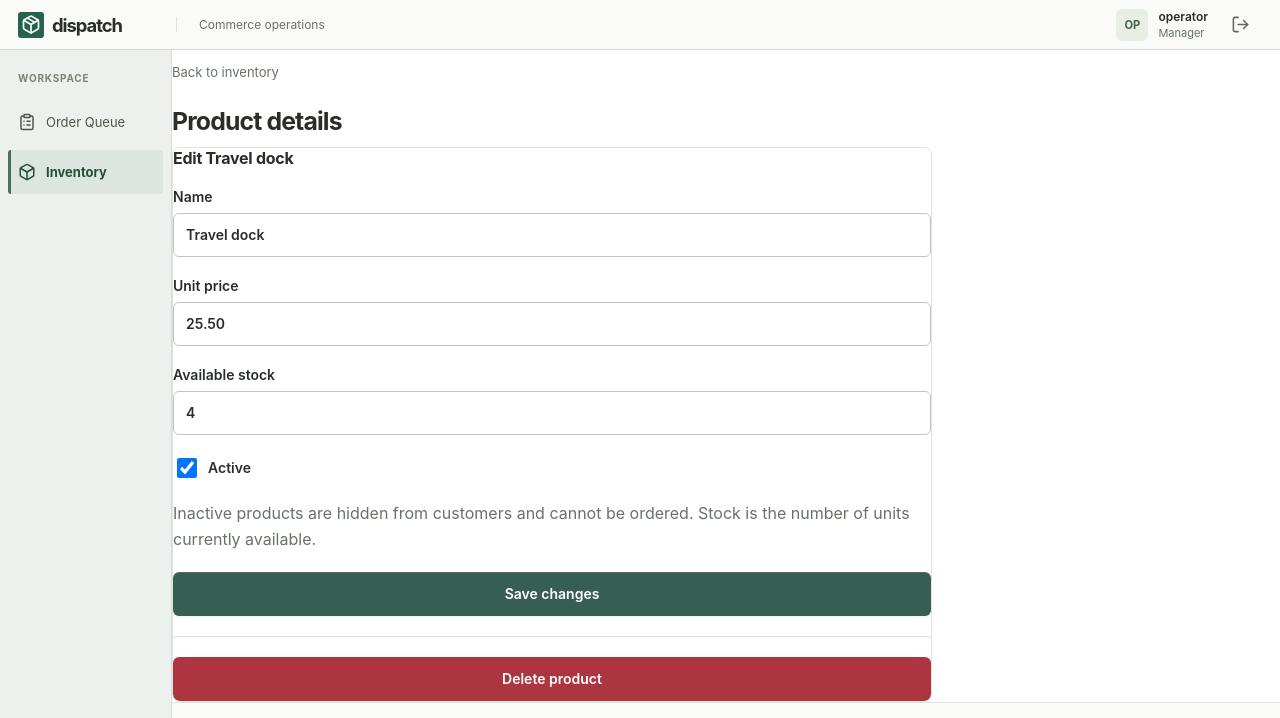
Scenario: requires manager confirmation before deleting a product
Click the button "Delete product". click: {"x": 552, "y": 679}
box: 173,657 -> 931,701
(page scrolled)
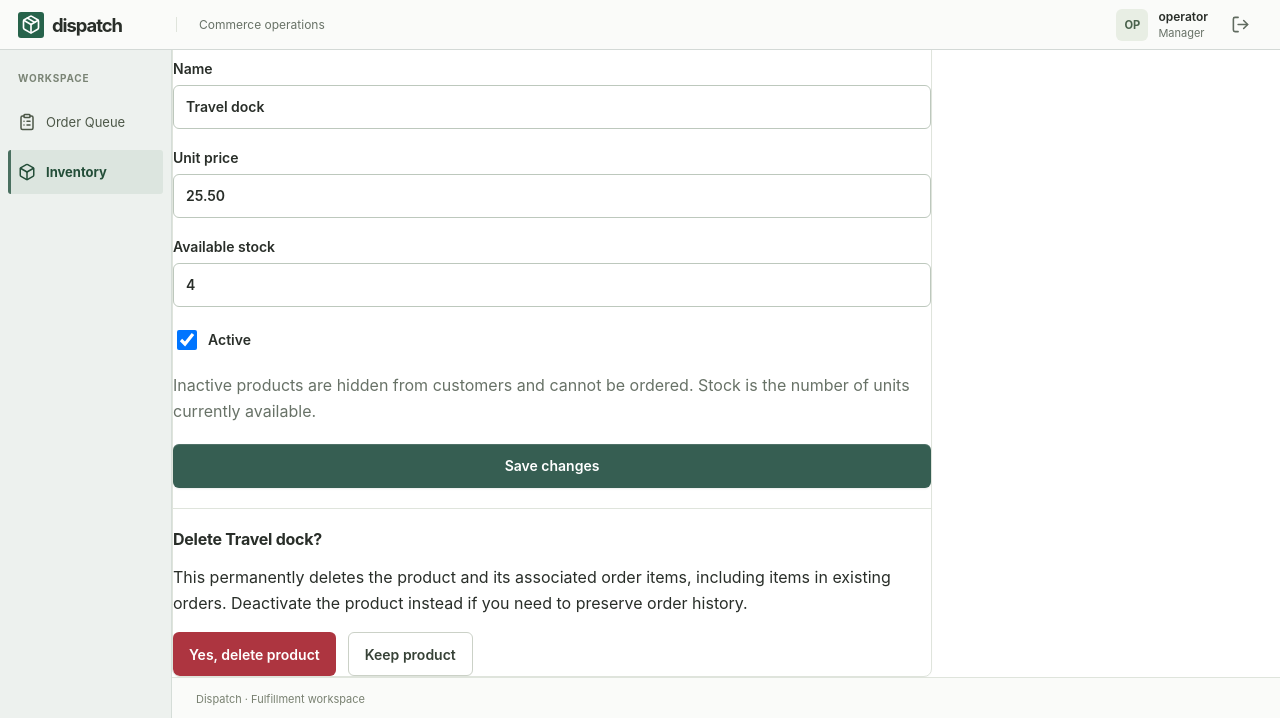
Expected: the text "associated order items" is shown, 173,567 -> 891,613
Click the button "Yes, delete product". click: {"x": 254, "y": 654}
box: 173,632 -> 336,676
(page scrolled)
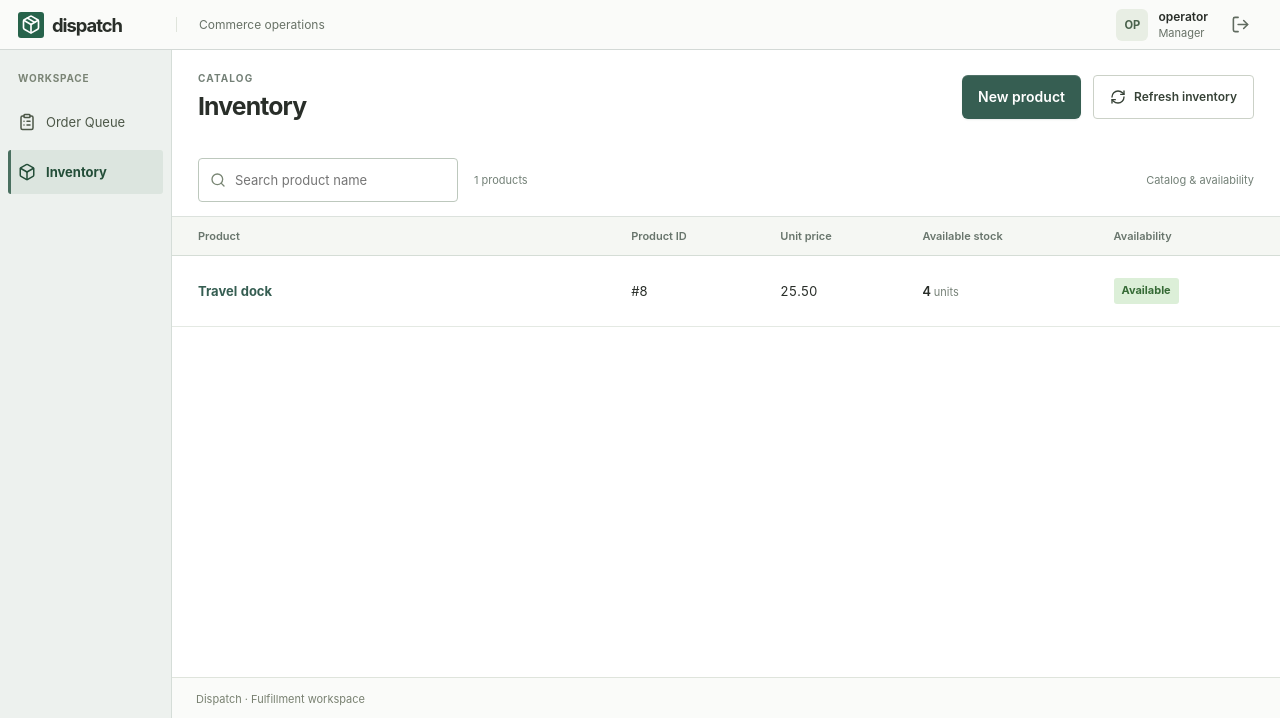
Expected: the heading "Inventory" is shown, 198,91 -> 306,122
